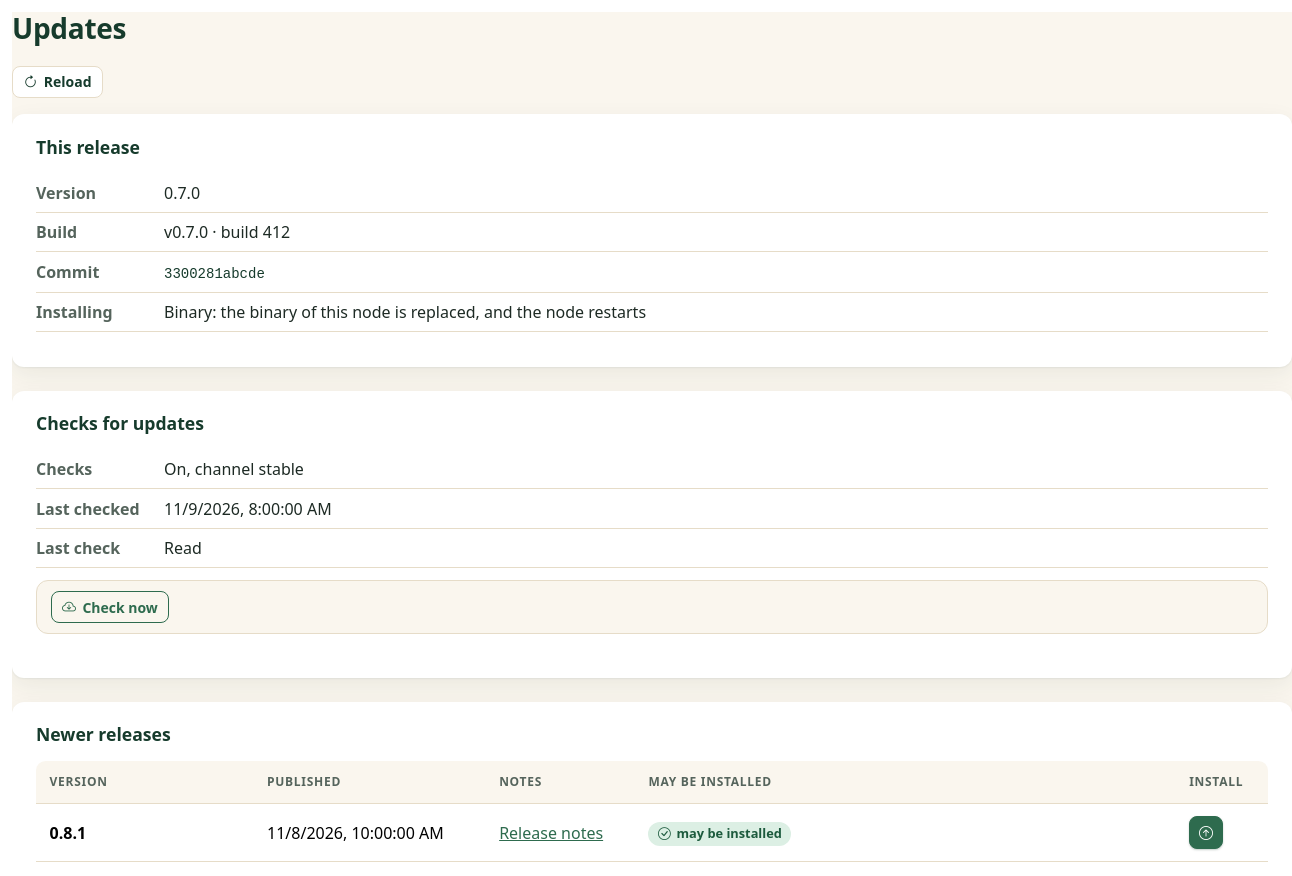
Test: Updates: check now › says that checks are off when the node answers 409
The width and height of the screenshot is (1292, 876).
What coordinates should you click on to do the following:
click the button "Check now"
I would click on:
 (110, 607)
Its box is [51,591,169,623].
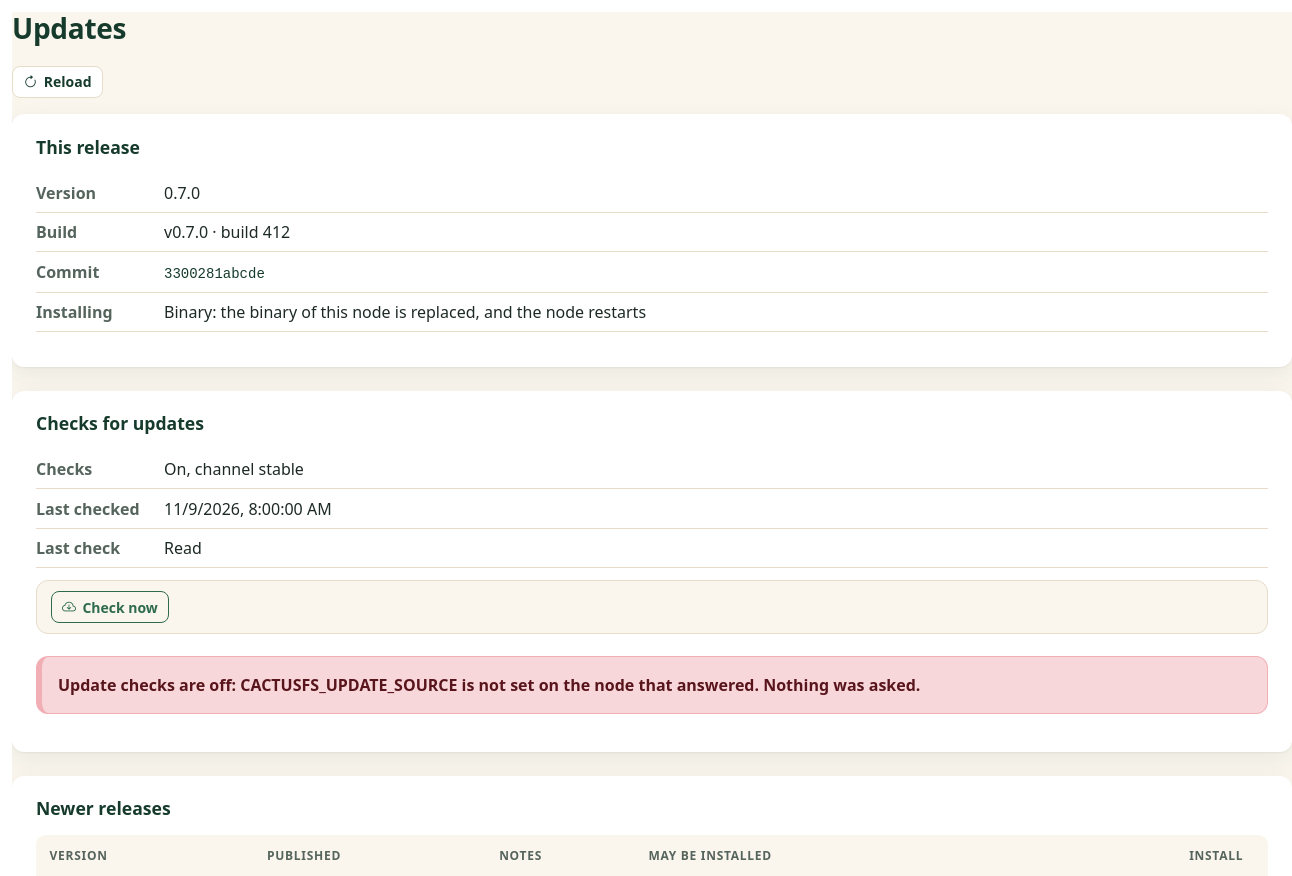
Expected: the message shows "Update checks are off: CACTUSFS_UPDATE_SOURCE is not set", [58,674,920,696]
Expected: the message shows "Nothing was asked.", [58,674,920,696]
